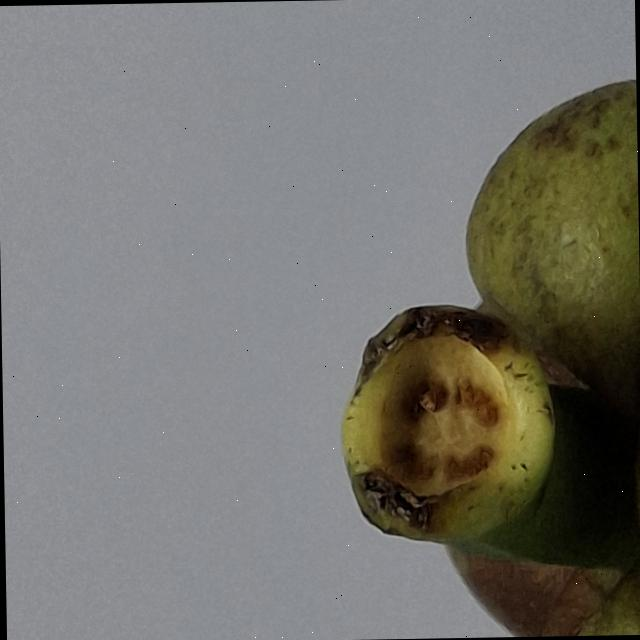mangosteen: (194, 0, 640, 640)
